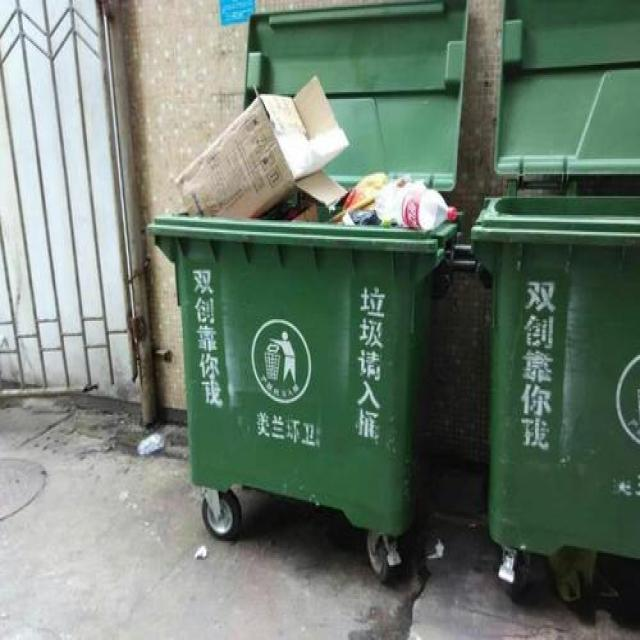garbage_bin: (470, 193, 638, 556)
overflow: (142, 72, 456, 534)
